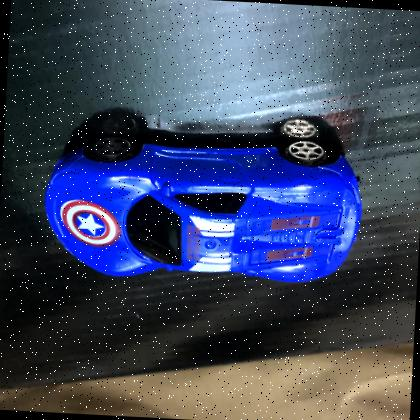Car: (44, 136, 363, 282)
